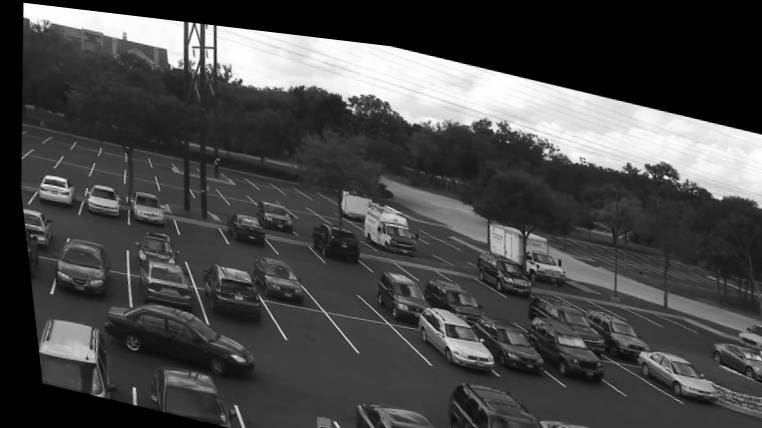empty: (334, 305, 425, 354), (593, 346, 671, 389), (259, 297, 337, 338), (228, 399, 333, 428), (300, 269, 364, 304), (170, 212, 226, 239), (69, 220, 118, 248), (439, 262, 496, 283), (265, 233, 315, 254), (393, 253, 447, 272), (620, 293, 675, 309), (484, 292, 526, 312), (405, 219, 451, 237), (185, 247, 229, 264), (592, 290, 641, 305), (85, 166, 123, 185), (358, 247, 403, 263), (151, 178, 192, 195), (187, 185, 229, 201), (53, 159, 90, 177), (554, 282, 600, 296), (122, 172, 155, 190), (179, 174, 216, 190), (218, 164, 251, 181), (18, 152, 55, 167), (319, 207, 357, 221), (58, 150, 91, 166), (121, 148, 150, 165), (287, 204, 326, 216), (249, 173, 280, 188), (91, 157, 123, 171), (153, 168, 185, 182), (121, 164, 155, 177), (50, 167, 79, 182), (241, 183, 274, 196), (211, 180, 246, 192), (144, 152, 174, 166), (30, 145, 61, 158), (17, 166, 40, 183), (273, 191, 308, 202), (219, 190, 253, 201), (303, 195, 337, 206), (97, 143, 123, 157), (275, 178, 304, 190), (299, 183, 330, 194), (289, 216, 317, 228), (20, 130, 45, 143), (73, 139, 96, 153), (45, 136, 70, 147), (17, 186, 33, 203), (210, 204, 233, 215), (18, 142, 31, 150)
occupied: (431, 370, 539, 428), (30, 316, 106, 398), (402, 297, 488, 357), (144, 360, 220, 423), (521, 303, 596, 364), (465, 304, 543, 360), (193, 257, 261, 319), (631, 336, 711, 386), (49, 232, 102, 295), (332, 395, 433, 428), (133, 253, 189, 308), (359, 193, 412, 247), (474, 240, 531, 289), (583, 295, 640, 343), (418, 268, 478, 313), (524, 284, 593, 322), (371, 263, 423, 310), (249, 251, 303, 295), (707, 326, 762, 366), (307, 216, 356, 258), (529, 406, 604, 428), (35, 173, 71, 208), (223, 208, 259, 242), (254, 194, 291, 226), (128, 229, 168, 258), (128, 188, 161, 221), (18, 209, 48, 242), (84, 183, 115, 214), (20, 229, 38, 281)
